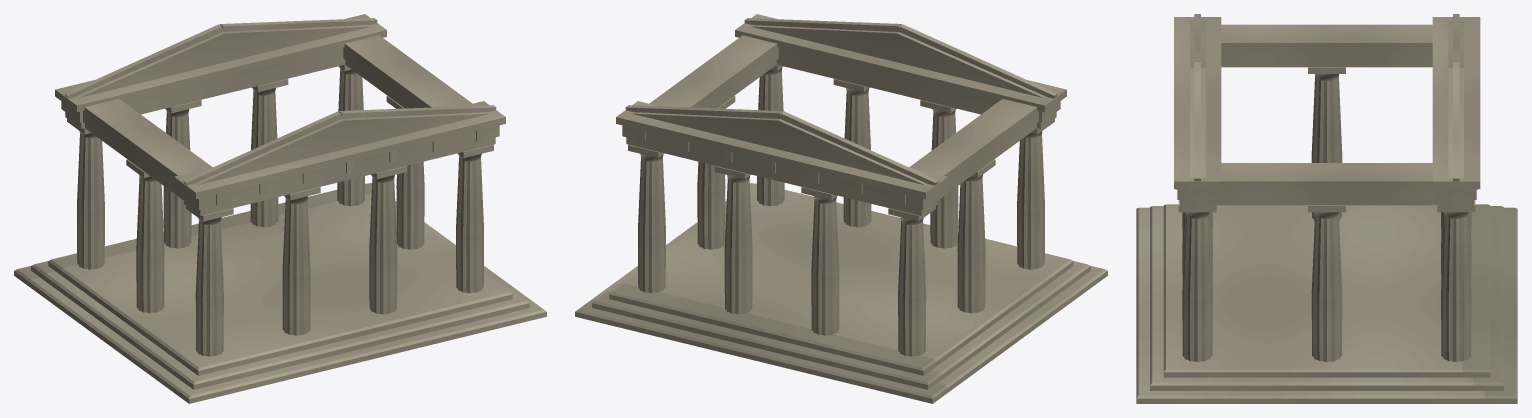
The model's file is athens.glb.
The picture shows the model from 3 angles, left to right: view 1: azimuth 30°, elevation 25°; view 2: azimuth 150°, elevation 25°; view 3: azimuth 270°, elevation 25°; orthographic projection. The views are drawn at different scales.
Visible parts, largest first — view 1: athens; view 2: athens; view 3: athens.
Boxes of the visible parts, x1=… form: athens: x1=14, y1=14, x2=546, y2=403; athens: x1=575, y1=14, x2=1107, y2=403; athens: x1=1136, y1=14, x2=1517, y2=403.
Size of the model in its own units: 6.59 by 4 by 5.59.
1 material, 1 textured.
